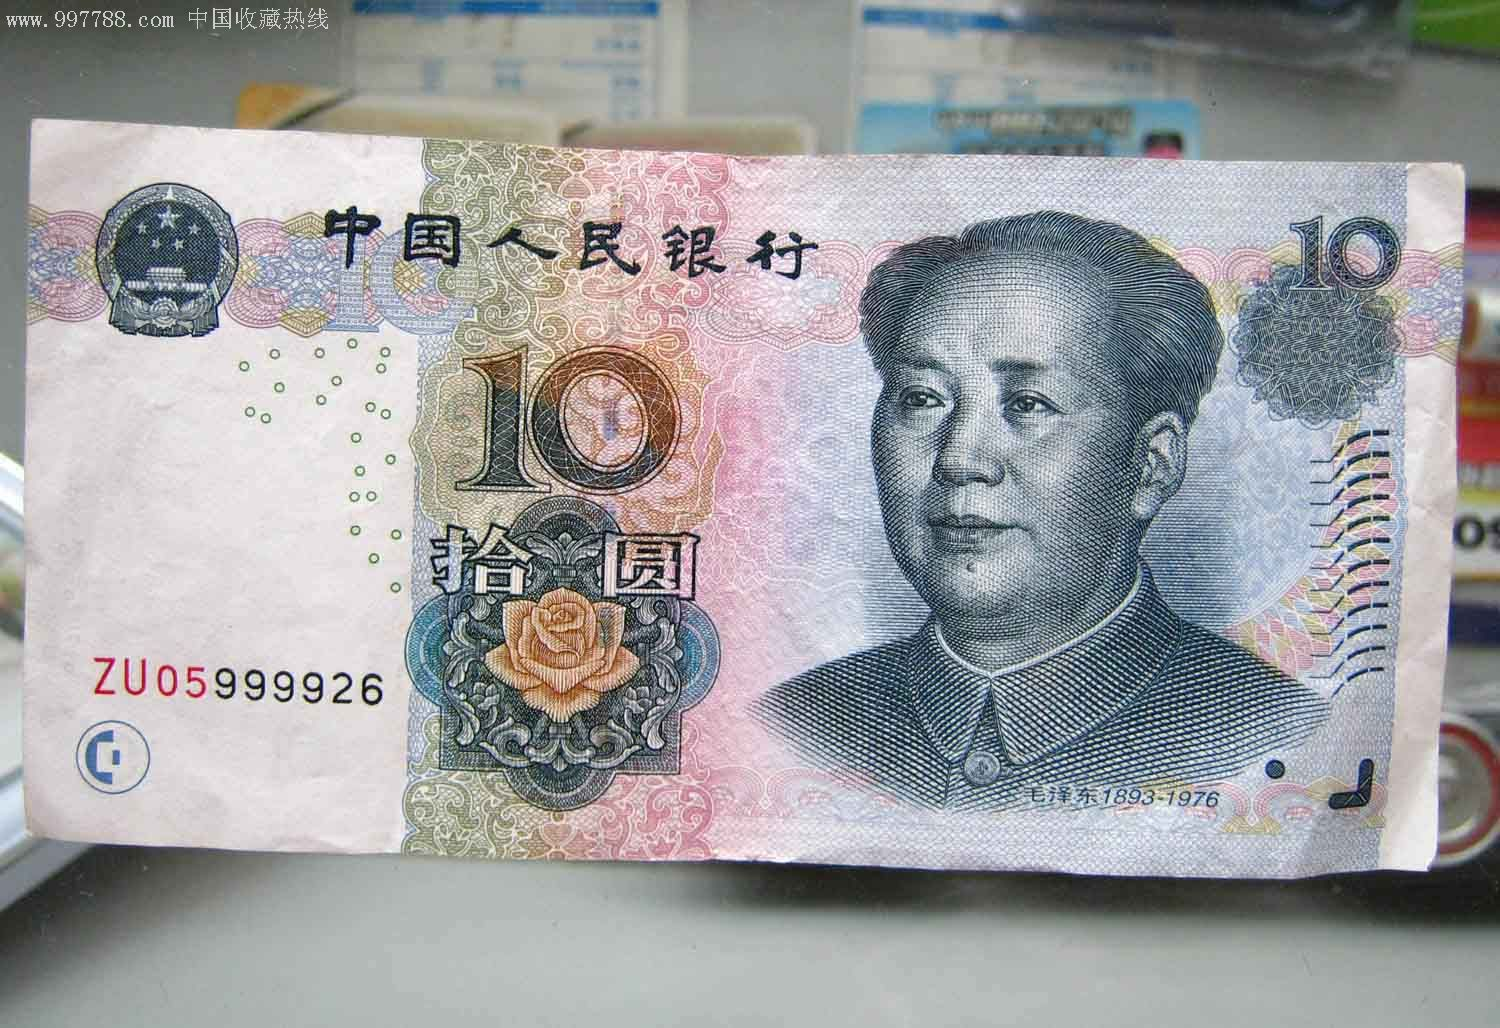rmb: (23, 116, 1445, 872)
